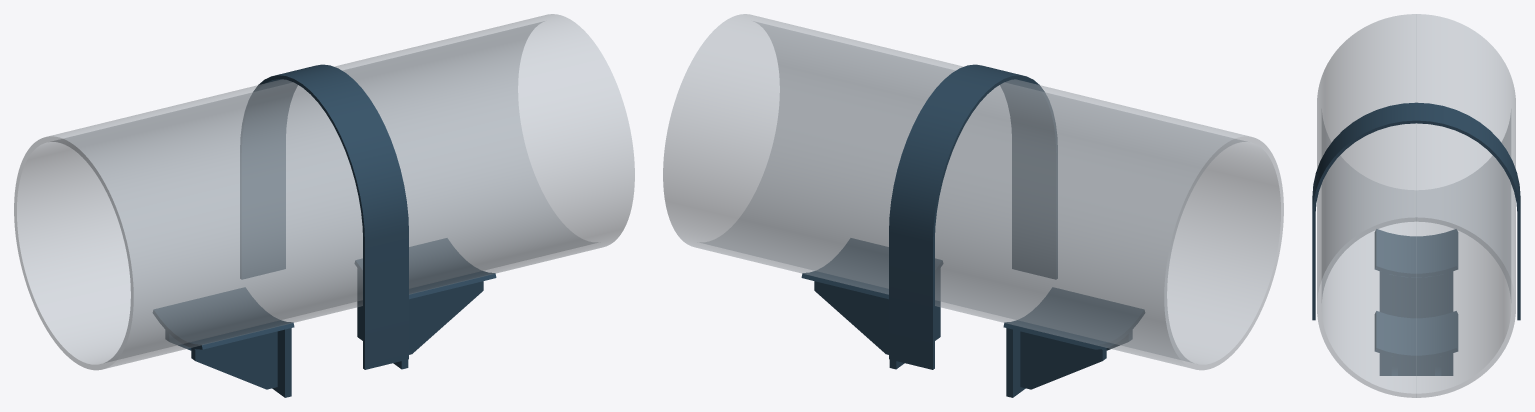
The model's file is TS-669.00.00-06-opora-dn377-ris1.glb.
The picture shows the model from 3 angles, left to right: view 1: azimuth 30°, elevation 25°; view 2: azimuth 150°, elevation 25°; view 3: azimuth 270°, elevation 25°; orthographic projection. The views are drawn at different scales.
Visible parts, largest first — view 1: truba, homut_9, upor_8, upor_4, upor_6, upor_2, upor_5; view 2: truba, homut_9, upor_8, upor_4, upor_7, upor_3, upor_5; view 3: truba, homut_9, upor_4, upor_8, upor_5, upor_1.
Boxes of the visible parts, x1,y1,x2,y2 form: truba: (14, 14, 634, 370); homut_9: (240, 64, 408, 369); upor_8: (153, 287, 294, 349); upor_4: (355, 238, 496, 299); upor_6: (191, 331, 277, 389); upor_2: (409, 281, 483, 354); upor_5: (272, 328, 291, 397); truba: (663, 14, 1283, 370); homut_9: (889, 64, 1057, 369); upor_8: (1003, 287, 1144, 349); upor_4: (801, 238, 942, 299); upor_7: (1020, 331, 1106, 389); upor_3: (814, 281, 888, 354); upor_5: (1006, 328, 1025, 397); truba: (1317, 14, 1515, 397); homut_9: (1312, 102, 1520, 320); upor_4: (1374, 311, 1458, 359); upor_8: (1374, 229, 1458, 277); upor_5: (1379, 271, 1453, 318); upor_1: (1379, 353, 1453, 375).
Size of the model in its own units: 911 by 500 by 394.
